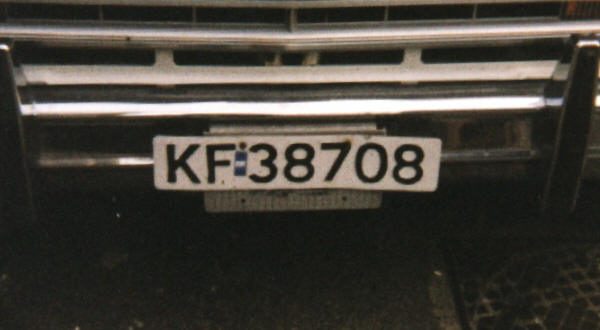license_plate: (151, 133, 442, 192)
